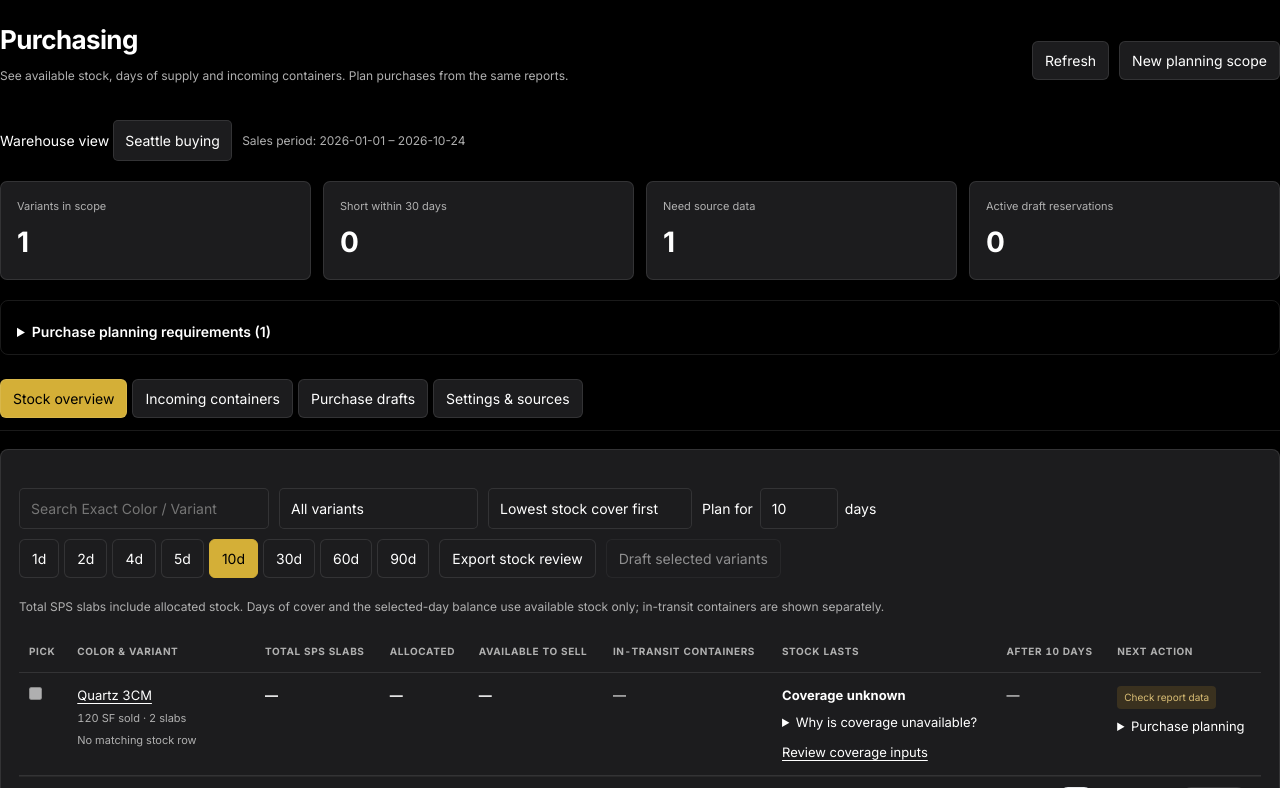
coverage repair diagnostics › shows the actual coverage reasons and opens the existing scope form for an editor
Check: the text "Coverage unknown" is shown, box [782,686,906,702]
Click the heading "Why is coverage unavailable?": (884, 723) [782,713,986,732]
(page scrolled)
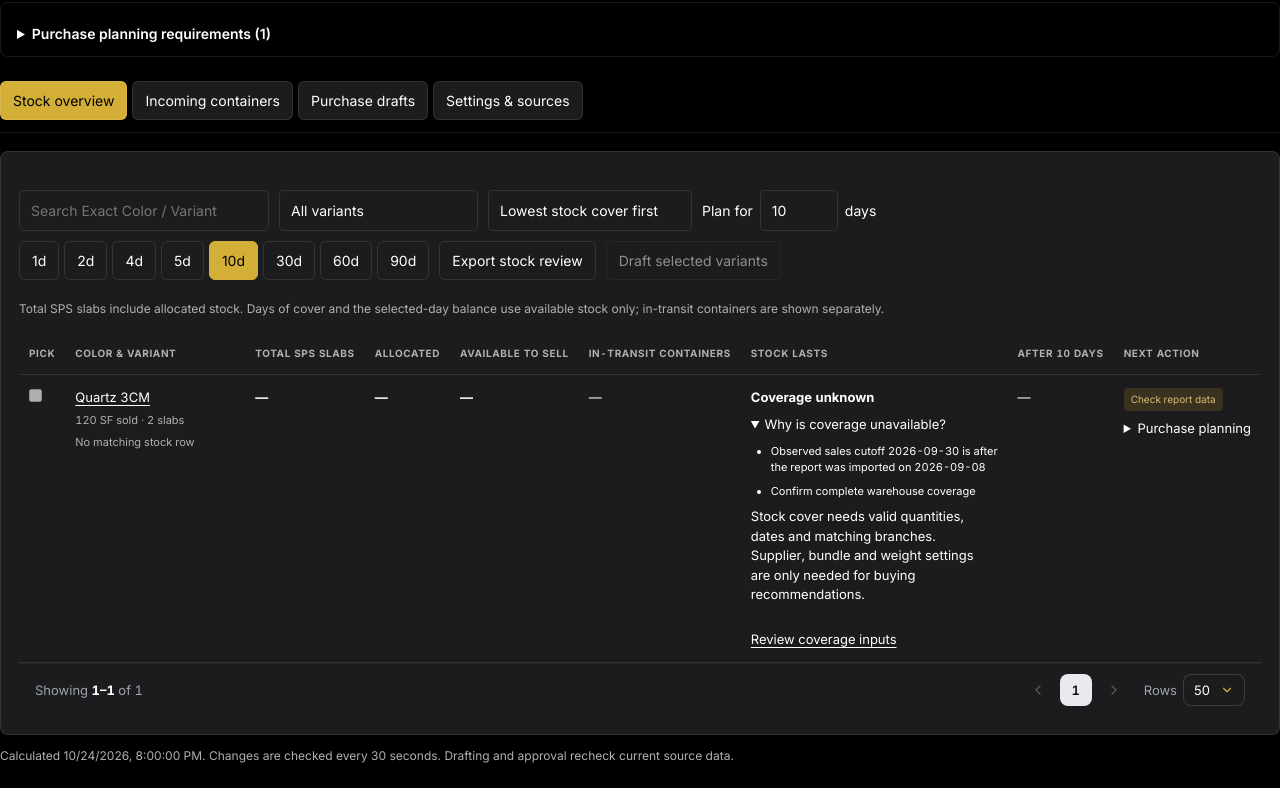
Check: the list item "Observed sales cutoff 2026-09-30 is after the report was imported on 2026-09-08" is shown, box [771,442,998,476]
Check: the list item "Confirm complete warehouse coverage" is shown, box [771,482,998,499]
Check: the text "Supplier, bundle and weight settings are only needed for buying recommendations" is shown, box [751,508,974,602]
Click the button "Review coverage inputs": (824, 639) [751,630,896,649]
(page scrolled)
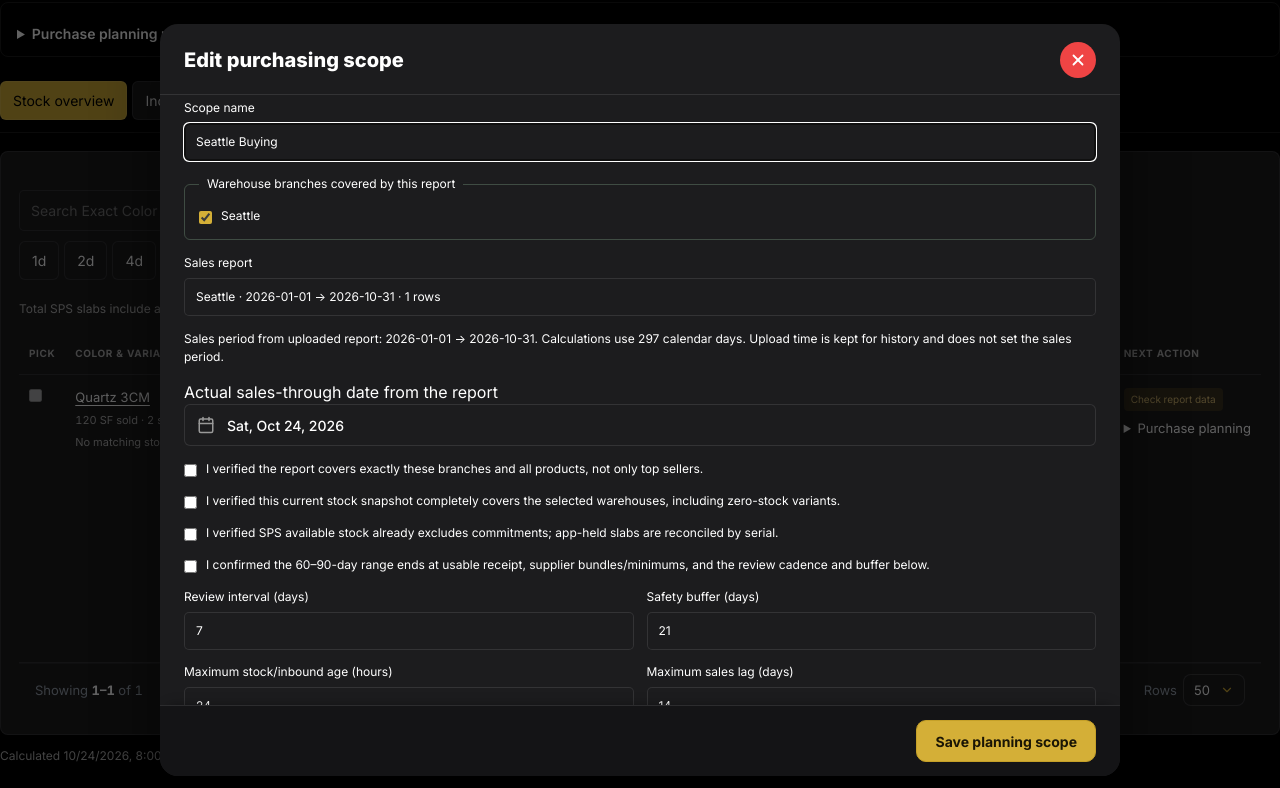
Check: the heading "Edit purchasing scope" is shown, box [184,48,404,72]
Check: the button with aria-label "Observed sales cutoff" is shown, box [184,404,1096,446]
